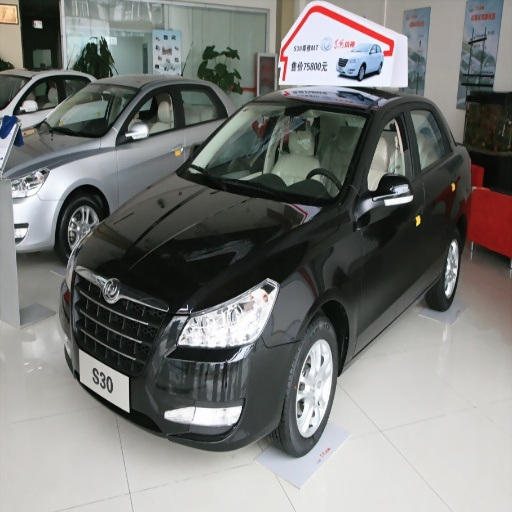front_bumper: (69, 274, 291, 449)
front_glass: (178, 97, 369, 203), (59, 83, 127, 134)
front_left_door: (354, 104, 422, 348), (116, 89, 170, 197)
